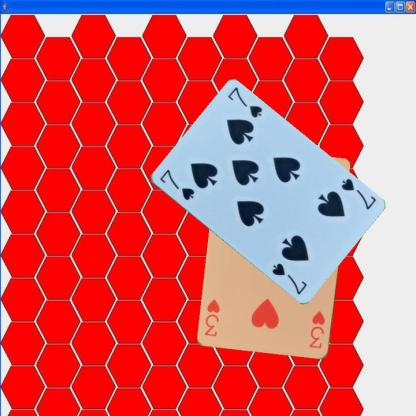3h: (307, 309, 326, 350)
7s: (338, 175, 377, 212), (157, 166, 195, 202)
